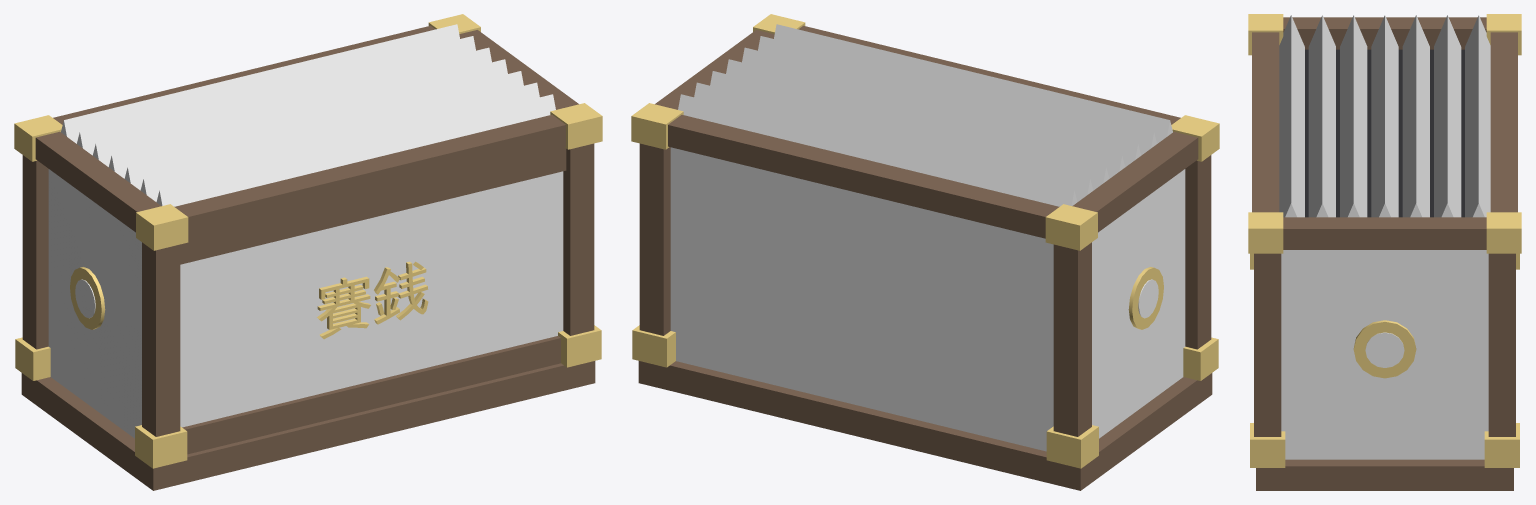
The model's file is saisen_box.glb.
The picture shows the model from 3 angles, left to right: view 1: azimuth 30°, elevation 25°; view 2: azimuth 150°, elevation 25°; view 3: azimuth 270°, elevation 25°; orthographic projection.
Parts seen in each view (by area): view 1: saisen_box_body; view 2: saisen_box_body; view 3: saisen_box_body.
Part boxes in pixels (bbox=[...]): saisen_box_body: bbox=[14, 14, 602, 490]; saisen_box_body: bbox=[631, 14, 1219, 490]; saisen_box_body: bbox=[1248, 14, 1521, 490].
Size of what is drawn, in the model's own units: 1.3 by 0.78 by 0.7.
